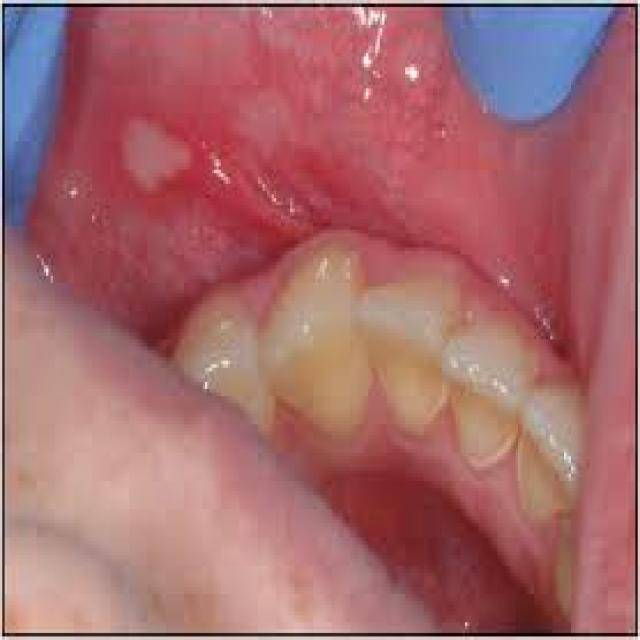processing_area: (32, 6, 629, 377)
ulcer-detection: (102, 95, 208, 220)
